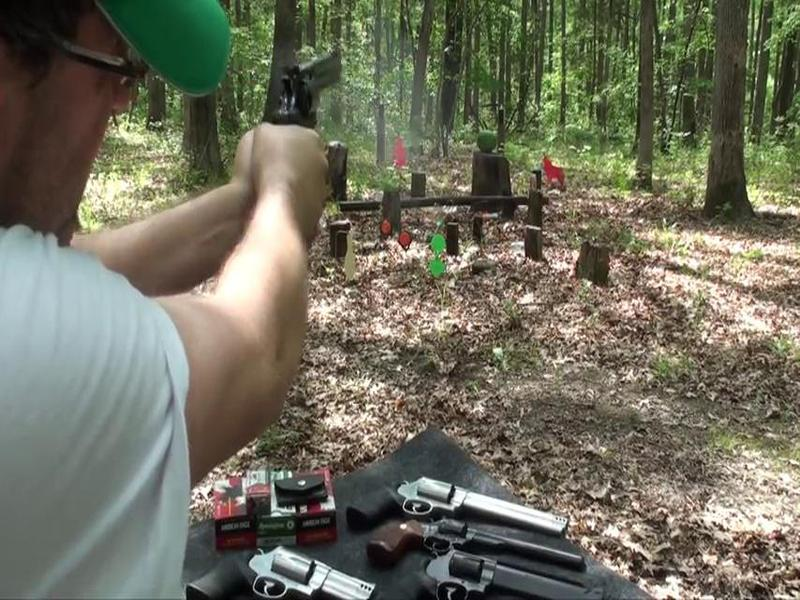Revolver: (260, 37, 384, 152)
